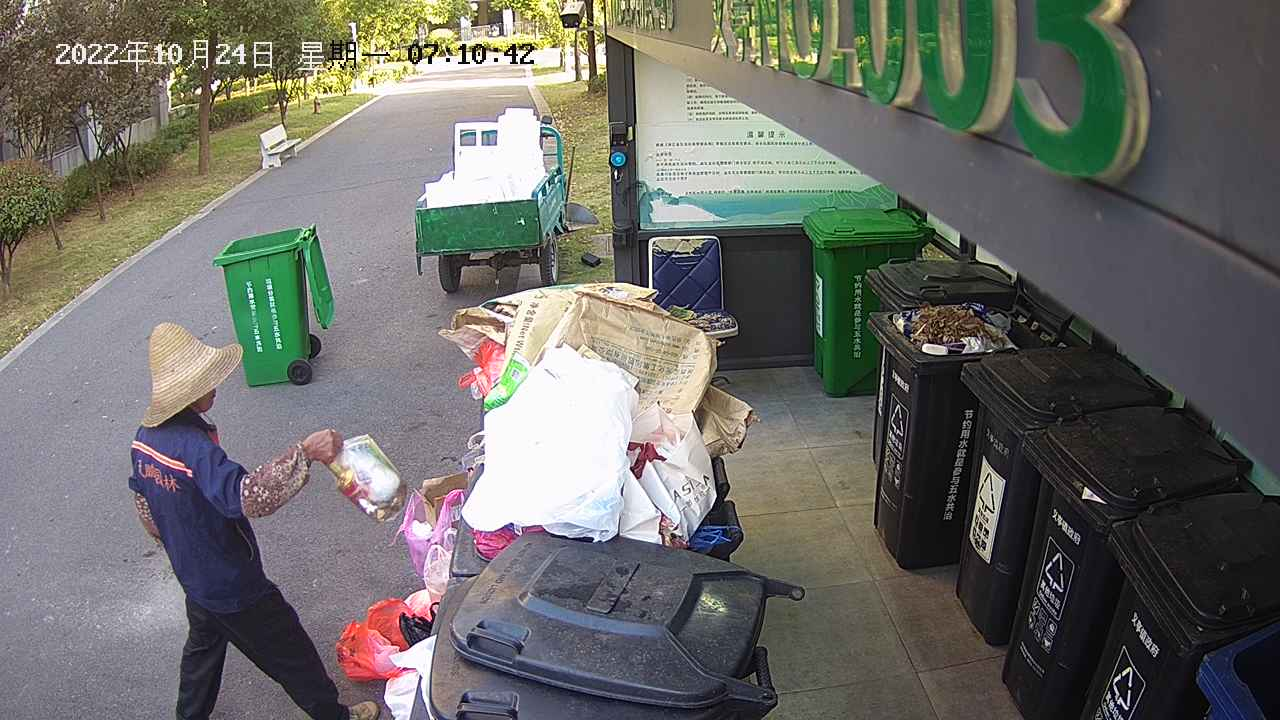garbage-bag: (332, 594, 433, 688), (319, 429, 413, 524)
worker: (122, 317, 386, 720)
